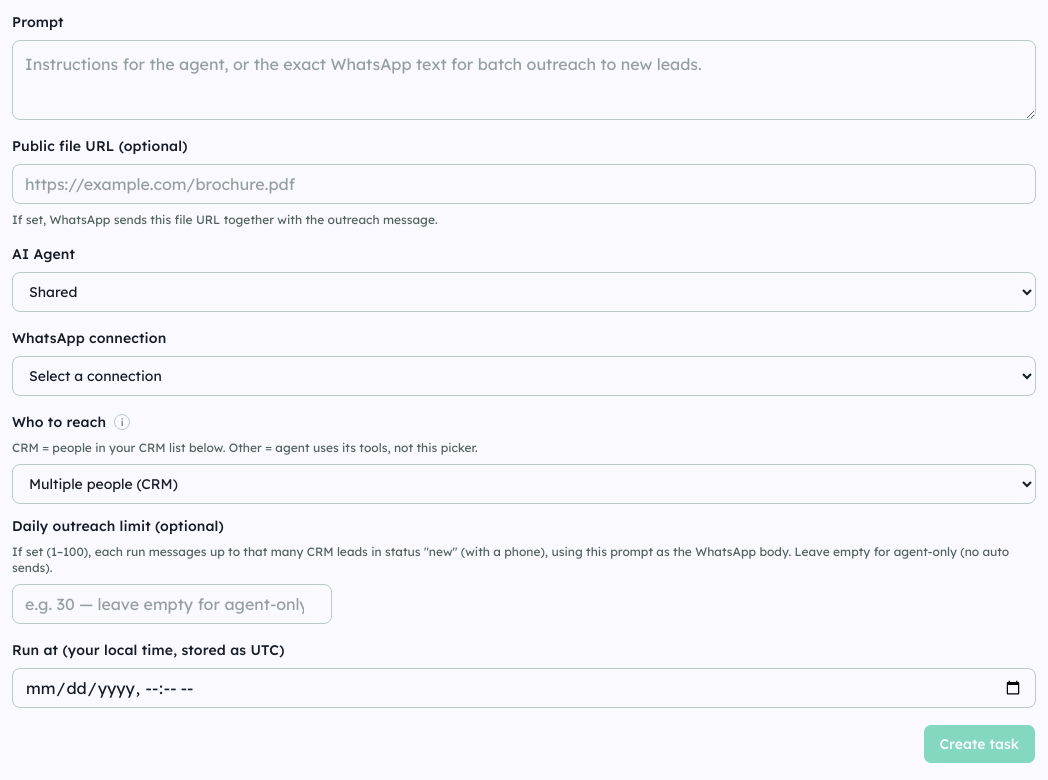
CreateTaskForm connection picker › requires WhatsApp connection when agent has multiple lines
Expected: the button "Create task" is disabled, [922, 724, 1036, 764]
Select "Line A (+1)" in the dropdown labelled "WhatsApp connection" at (524,376), box [12, 356, 1036, 396]
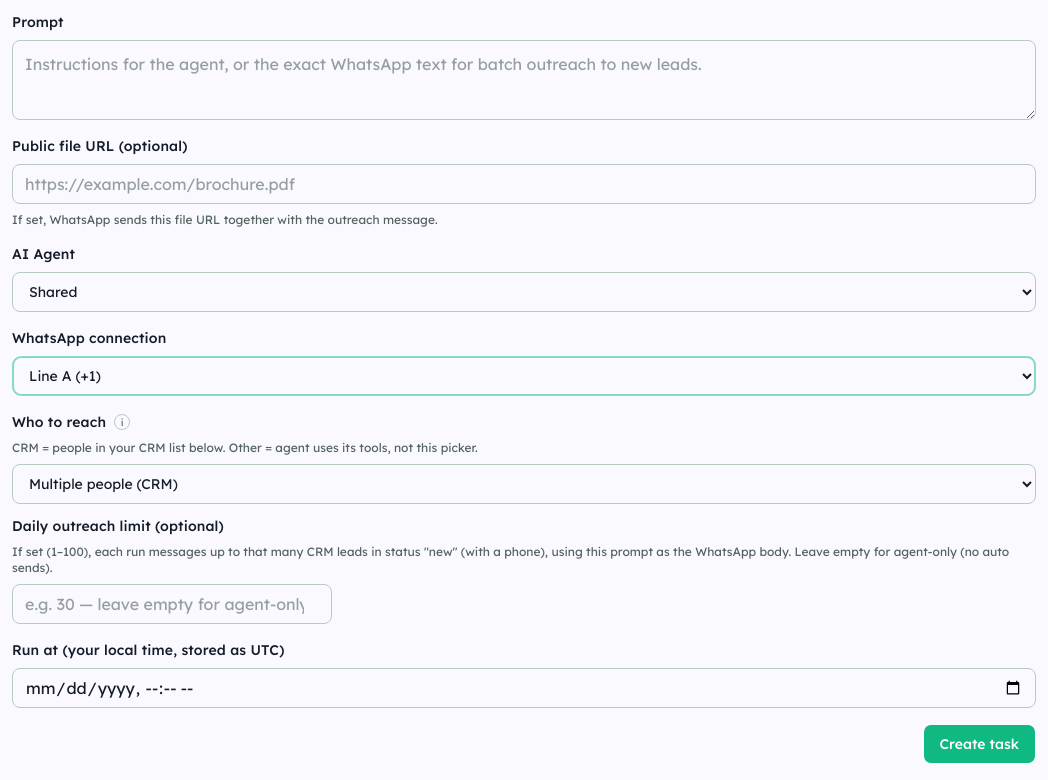
Expected: the button "Create task" is enabled, [922, 724, 1036, 764]
